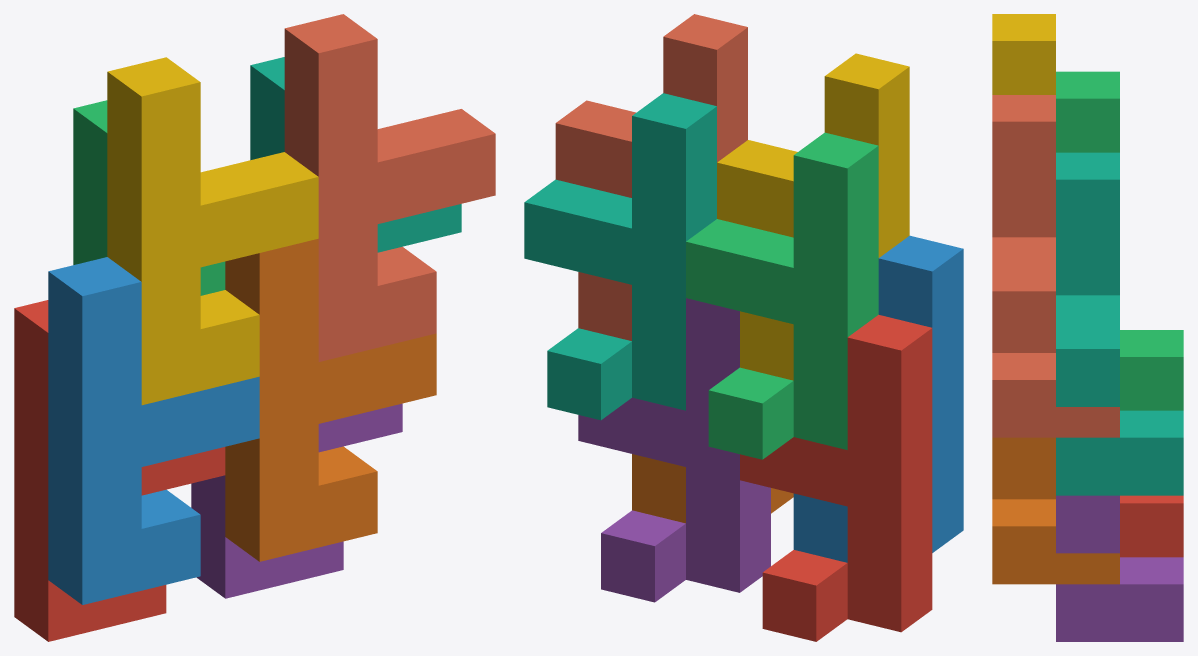
The model's file is tiling.obj.
3 views of the same model, side by side, from view 1: azimuth 30°, elevation 25°; view 2: azimuth 150°, elevation 25°; view 3: azimuth 270°, elevation 25° (orthographic). The views are drawn at different scales.
Parts seen in each view (by area): view 1: copy_1_domain_2, copy_1_domain_4, copy_1_domain_8, copy_1_domain_6, copy_1_domain_1, copy_1_domain_5, copy_1_domain_3, copy_1_domain_7; view 2: copy_1_domain_3, copy_1_domain_1, copy_1_domain_7, copy_1_domain_5, copy_1_domain_4, copy_1_domain_8, copy_1_domain_2, copy_1_domain_6; view 3: copy_1_domain_7, copy_1_domain_8, copy_1_domain_5, copy_1_domain_6, copy_1_domain_3, copy_1_domain_4, copy_1_domain_1.
Part boxes in pixels (box(x1,y1,x2,y2)): copy_1_domain_2: box(48, 257, 259, 604); copy_1_domain_4: box(107, 57, 318, 405); copy_1_domain_8: box(284, 14, 495, 361); copy_1_domain_6: box(225, 238, 436, 561); copy_1_domain_1: box(14, 300, 225, 641); copy_1_domain_5: box(191, 403, 402, 598); copy_1_domain_3: box(73, 100, 225, 295); copy_1_domain_7: box(250, 57, 461, 252); copy_1_domain_3: box(686, 132, 878, 459); copy_1_domain_1: box(740, 314, 932, 641); copy_1_domain_7: box(524, 93, 716, 420); copy_1_domain_5: box(578, 298, 770, 602); copy_1_domain_4: box(717, 53, 909, 380); copy_1_domain_8: box(555, 14, 747, 340); copy_1_domain_2: box(793, 235, 963, 562); copy_1_domain_6: box(632, 454, 793, 523); copy_1_domain_7: box(1056, 152, 1183, 495); copy_1_domain_8: box(992, 95, 1119, 437); copy_1_domain_5: box(1056, 495, 1183, 641); copy_1_domain_6: box(992, 437, 1119, 584); copy_1_domain_3: box(1056, 71, 1183, 410); copy_1_domain_4: box(992, 14, 1055, 94); copy_1_domain_1: box(1120, 495, 1183, 557).
Bounding box in the file's own units: 7 × 9 × 3.
